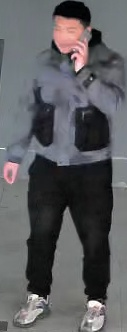phone: (72, 28, 124, 123)
